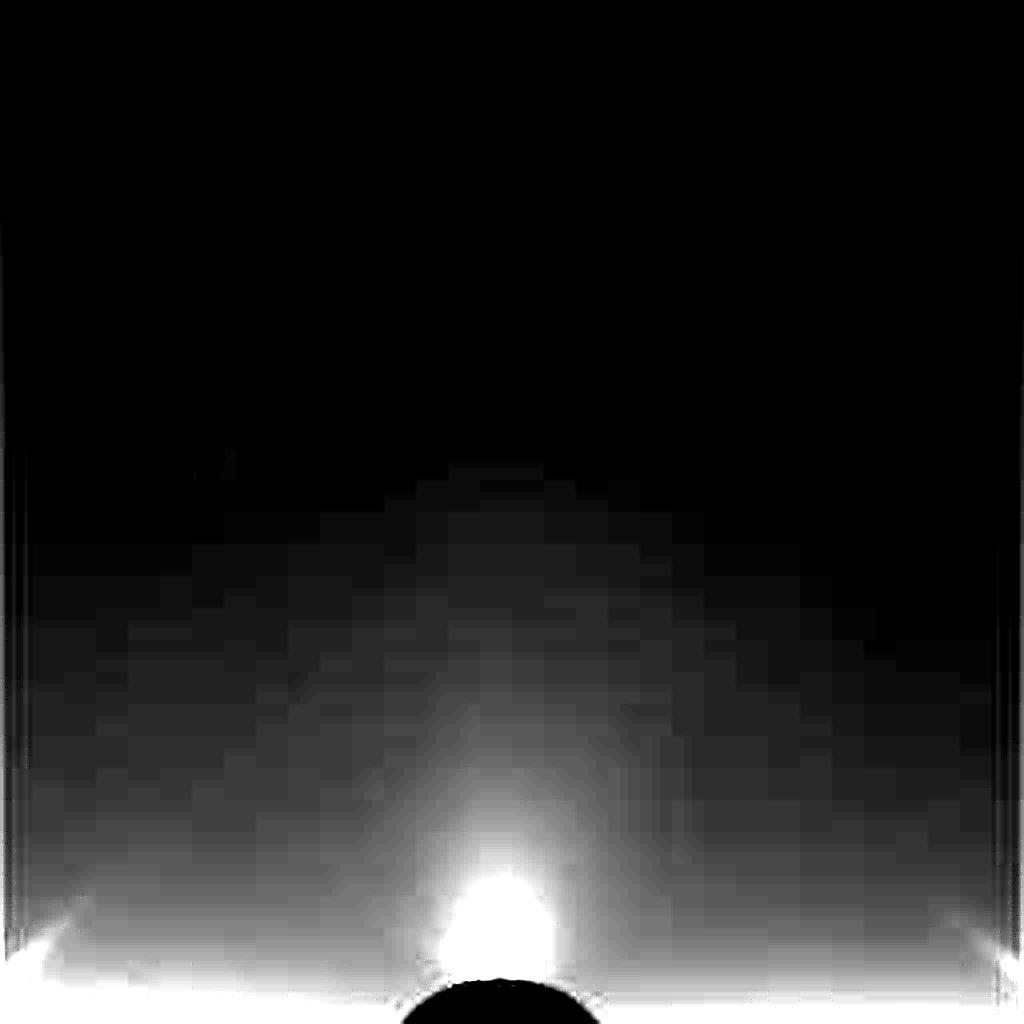plumes: (444, 873, 556, 986)
